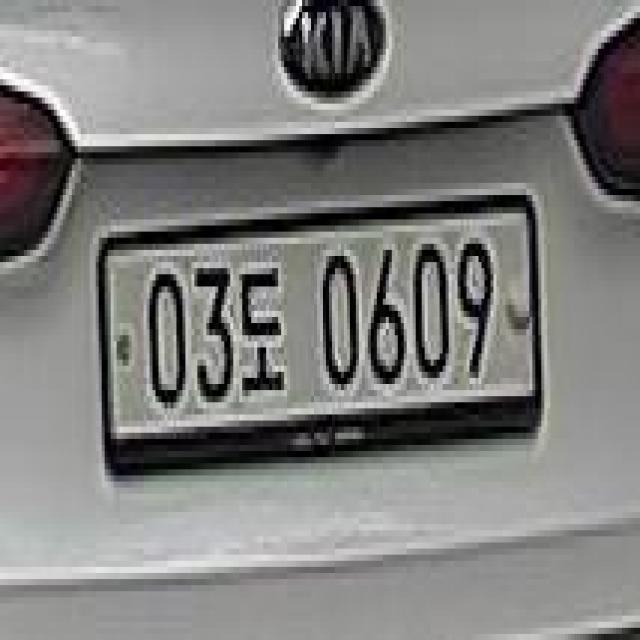illegal_plate: (95, 183, 544, 480)
